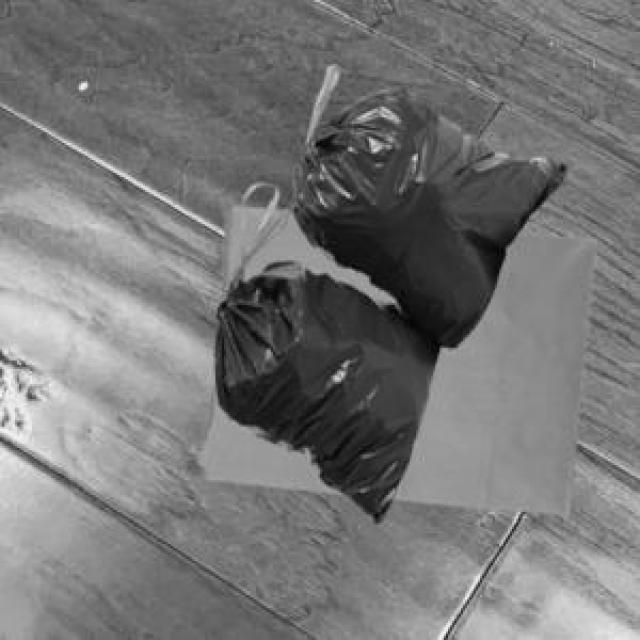miscellaneous trash: (211, 62, 563, 518)
paper: (196, 203, 591, 510)
